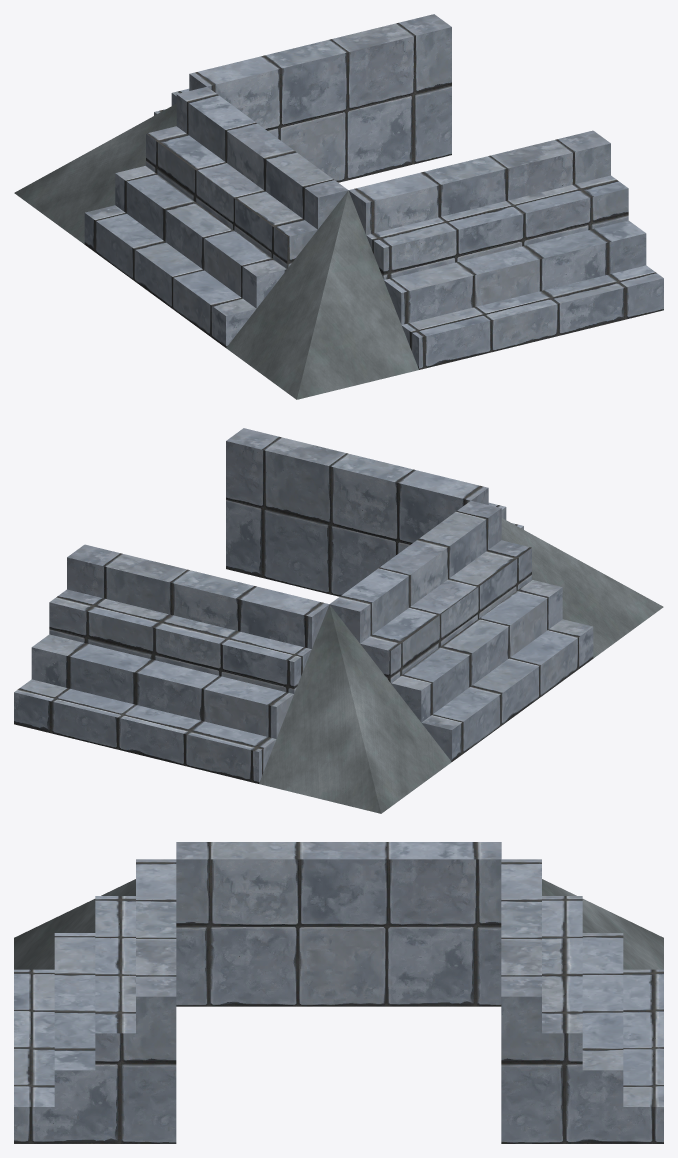
File: BlacksmithSmallStairs.fbx
3 views of the same model, one above another, from view 1: azimuth 30°, elevation 25°; view 2: azimuth 150°, elevation 25°; view 3: azimuth 270°, elevation 25° (orthographic). The views are drawn at different scales.
Visible parts, largest first — view 1: stairs% (×6), wedge_cornerOuter (×2); view 2: stairs% (×6), wedge_cornerOuter (×2); view 3: stairs% (×6), wedge_cornerOuter (×2).
Boxes of the visible parts, x1,y1,x2,y2 form: stairs% (×6): (84,14,663,369); wedge_cornerOuter (×2): (14,103,418,399); stairs% (×6): (14,428,593,783); wedge_cornerOuter (×2): (259,518,663,813); stairs% (×6): (14,842,663,1143); wedge_cornerOuter (×2): (14,879,663,969).
Bounding box in the file's own units: 13.71 × 4.57 × 18.27.
